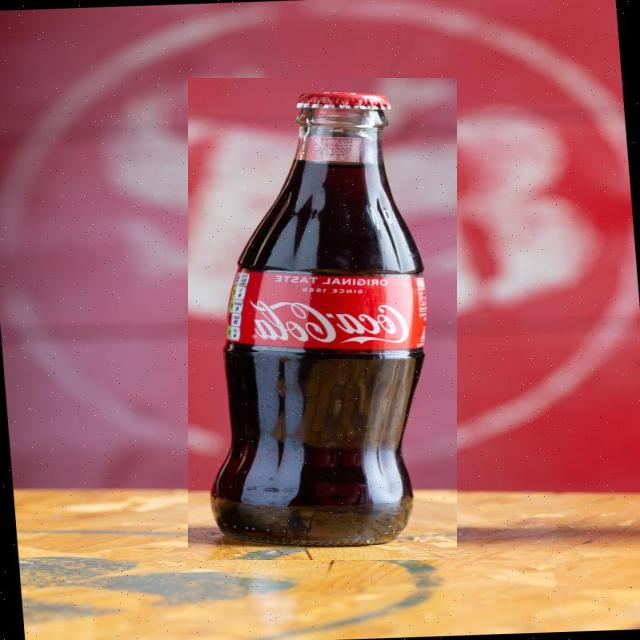coca-cola: (188, 78, 457, 560)
